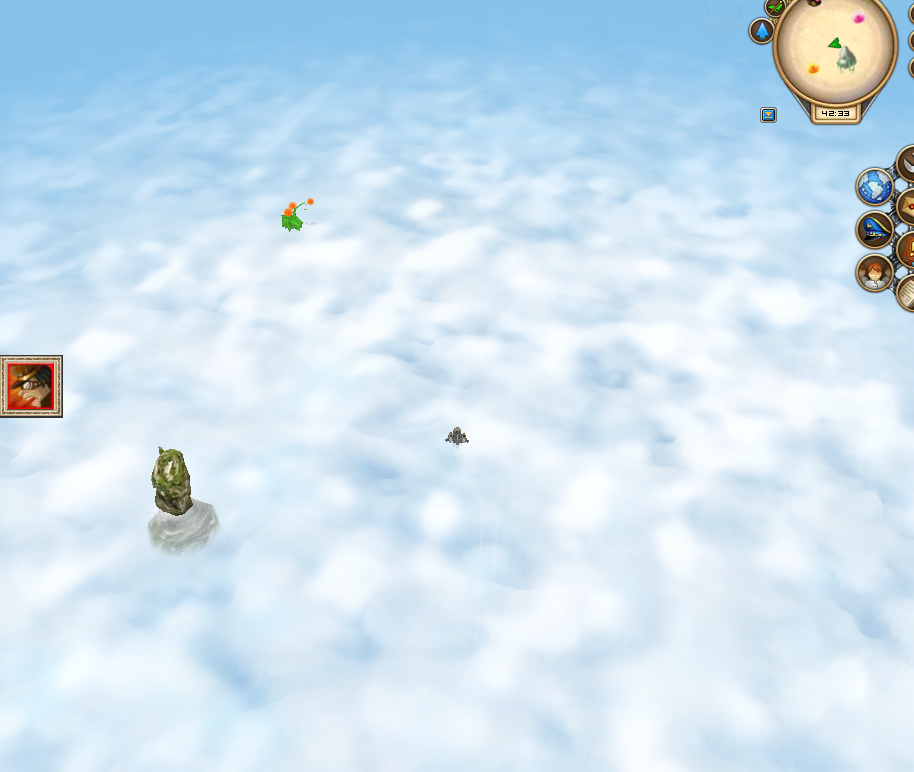dandelion-full: (274, 197, 317, 232)
